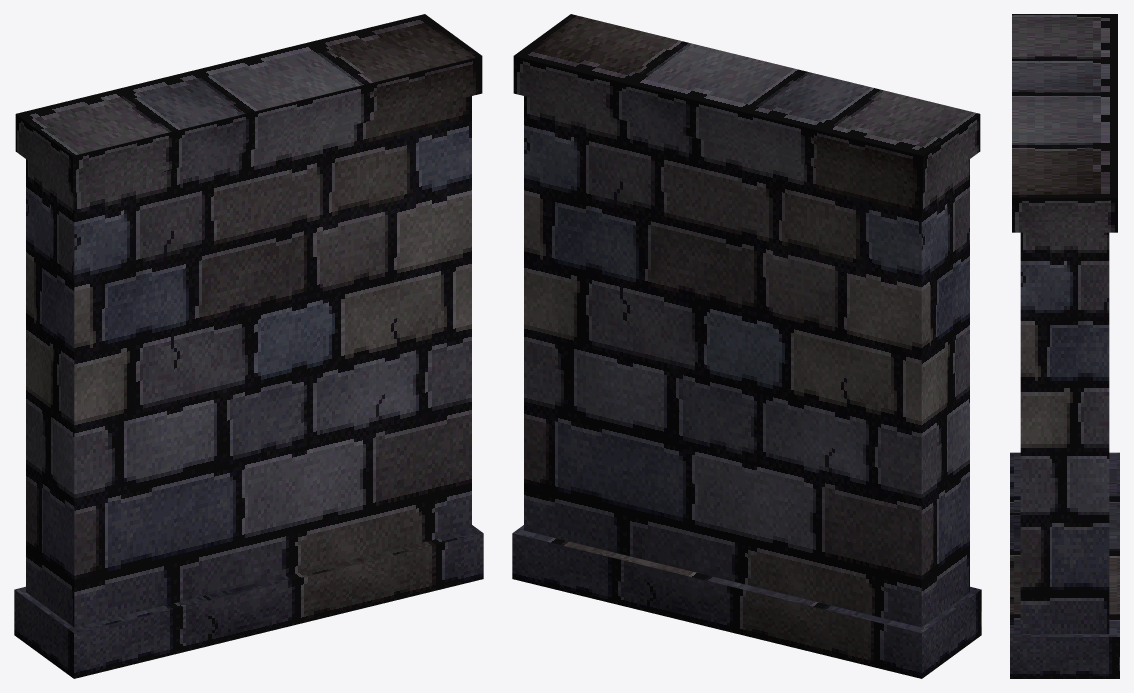
Rendered from parede_de_basalto.glb.
3 views of the same model, side by side, from view 1: azimuth 30°, elevation 25°; view 2: azimuth 150°, elevation 25°; view 3: azimuth 270°, elevation 25° (orthographic). The views are drawn at different scales.
Visible parts, largest first — view 1: parede_de_basalto; view 2: parede_de_basalto; view 3: parede_de_basalto.
Boxes of the visible parts, x1,y1,x2,y2 form: parede_de_basalto: [14, 14, 483, 678]; parede_de_basalto: [512, 14, 981, 678]; parede_de_basalto: [1010, 14, 1119, 678].
Size of the model in its own units: 2.06 by 2.51 by 0.52.
Materials: 1 (1 with a texture image).
